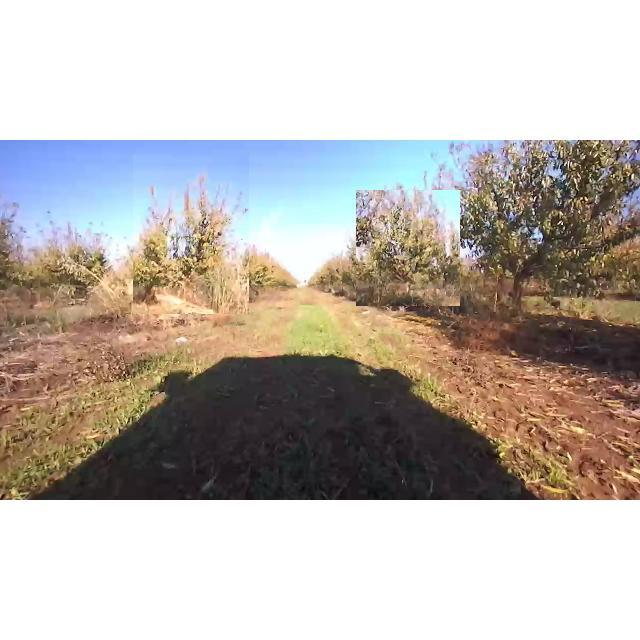direk: (420, 142, 640, 322), (133, 153, 249, 314), (356, 190, 460, 306)
